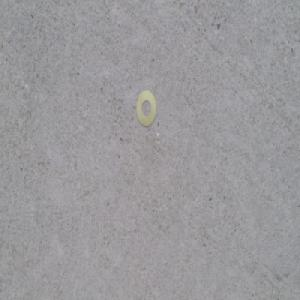Washer: (136, 92, 157, 131)
